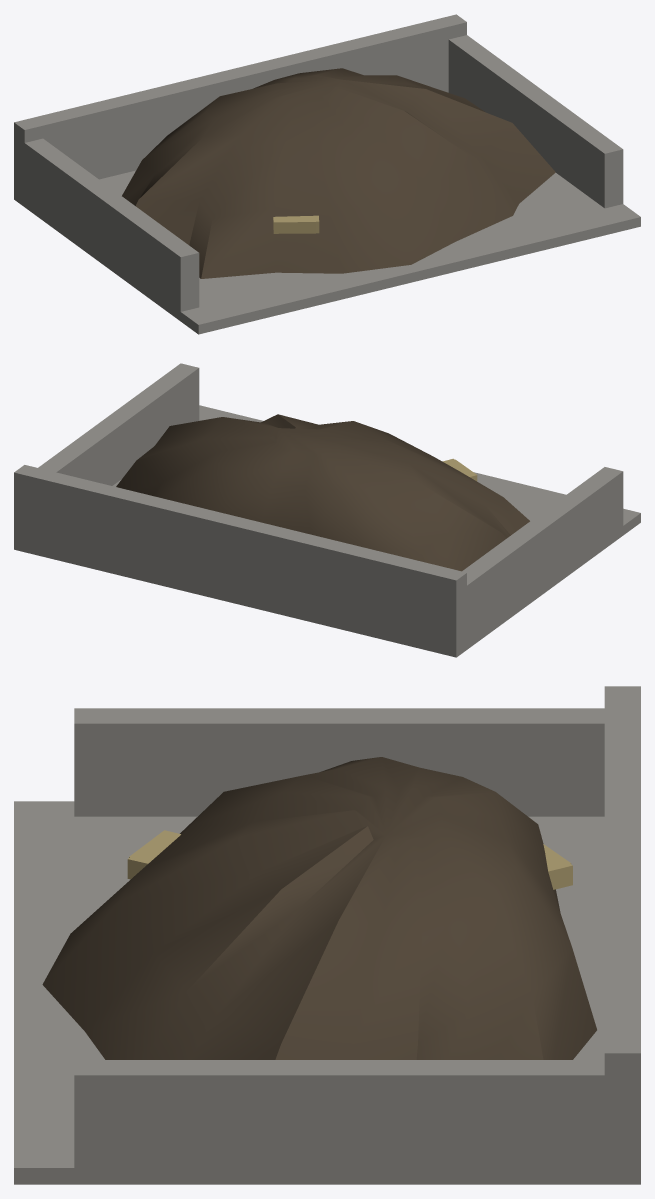
Rendered from Scenery_MuckHeap.fbx.
The picture shows the model from 3 angles, top to bottom: view 1: azimuth 30°, elevation 25°; view 2: azimuth 150°, elevation 25°; view 3: azimuth 270°, elevation 25°; orthographic projection. The views are drawn at different scales.
Visible parts, largest first — view 1: Scenery_MuckHeap_LOD0; view 2: Scenery_MuckHeap_LOD0; view 3: Scenery_MuckHeap_LOD0.
Part boxes in pixels (<box>): Scenery_MuckHeap_LOD0: <box>14,14,640,334</box>; Scenery_MuckHeap_LOD0: <box>14,363,640,657</box>; Scenery_MuckHeap_LOD0: <box>14,686,640,1184</box>.
Size of what is drawn, in the model's own units: 7.2 by 1.76 by 5.2.
